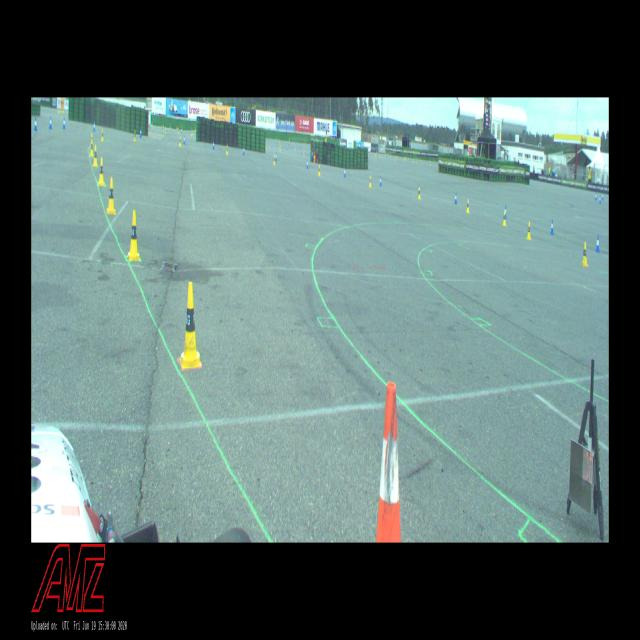blue_cone: (595, 235, 600, 253), (550, 219, 554, 235), (34, 117, 38, 131), (48, 116, 52, 130), (62, 118, 66, 128), (417, 184, 420, 196), (183, 134, 186, 145), (454, 193, 457, 204), (139, 127, 142, 138), (379, 176, 382, 187), (306, 158, 309, 169), (504, 205, 506, 219), (344, 166, 346, 178), (93, 120, 95, 132), (213, 139, 215, 150), (275, 151, 277, 161), (243, 146, 245, 155)
orange_cone: (376, 382, 402, 543)
yellow_cone: (180, 282, 202, 369), (126, 210, 140, 261), (107, 177, 116, 214), (98, 157, 105, 186), (581, 242, 588, 267), (93, 145, 98, 166), (527, 221, 531, 240), (502, 211, 507, 226), (90, 139, 94, 157), (90, 133, 94, 149), (101, 128, 104, 143), (466, 199, 469, 213), (369, 175, 372, 188), (179, 135, 182, 147), (133, 130, 136, 142), (418, 187, 420, 200), (318, 164, 320, 176), (226, 143, 228, 155), (273, 154, 275, 166)
